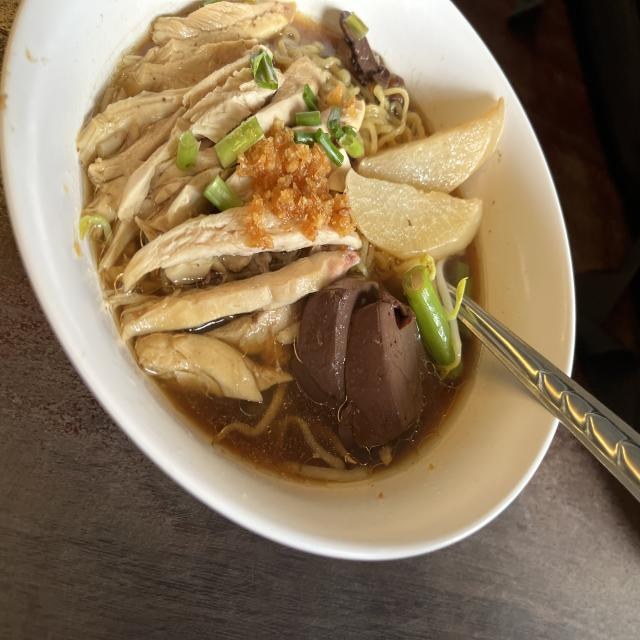boiled_chicken_blood_jelly: (309, 279, 417, 429)
chicken_shredded: (115, 2, 322, 386)
daikon_radish: (349, 97, 507, 247)
noodle: (73, 0, 528, 484)
